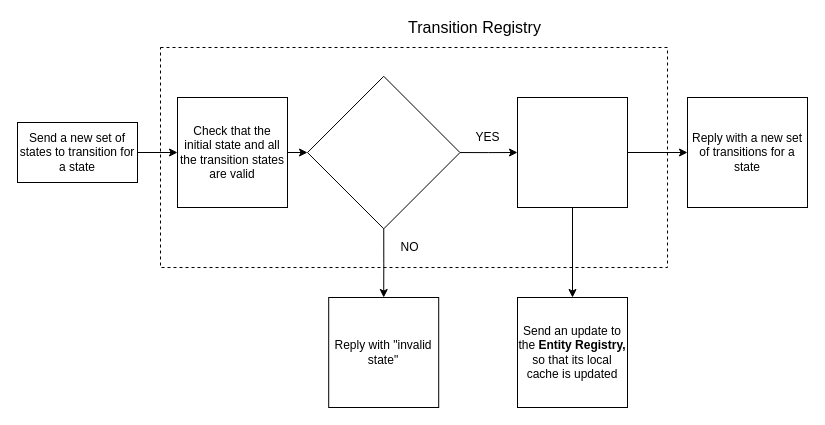
Some shapes in this 825 by 425 pixel diagram are drawn without their labels. The box of each missing label's shape, as (x1, y1, x2, y2) in pixels:
All states are valid: (306, 75, 460, 229)
Update set of valid transitions for a state: (516, 96, 628, 208)
